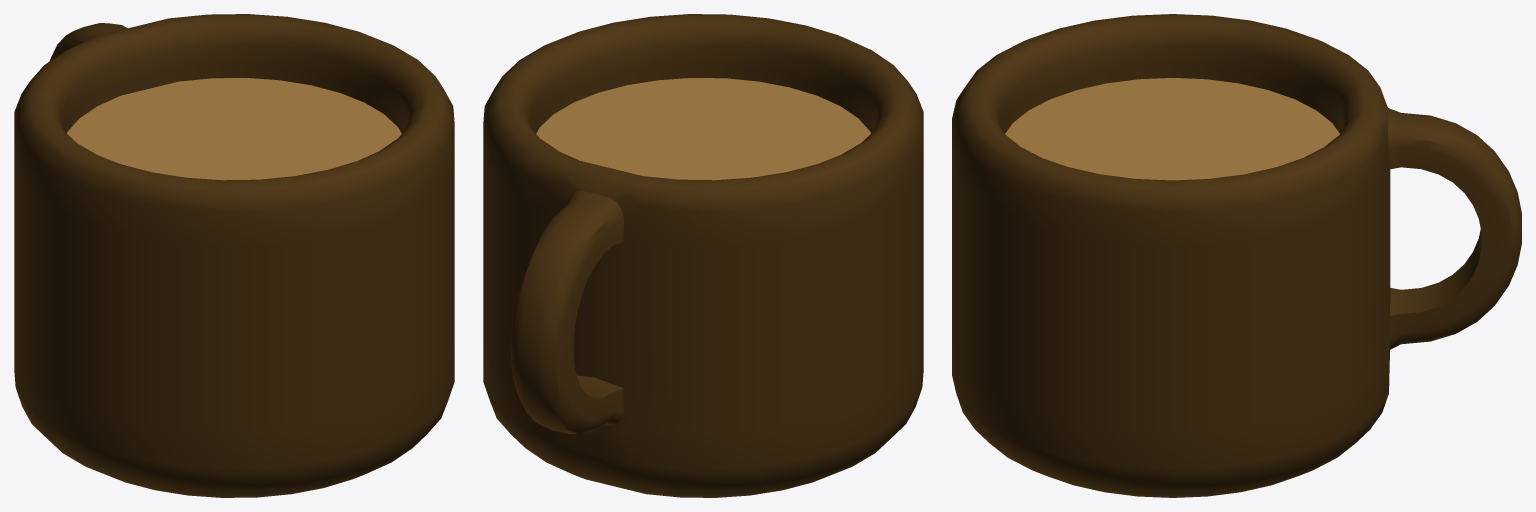
Rendered from BoardPieces_003.fbx.
3 renders of one model, left to right at view 1: azimuth 30°, elevation 25°; view 2: azimuth 150°, elevation 25°; view 3: azimuth 270°, elevation 25°, orthographic.
Visible parts, largest first — view 1: BoardPieces_003; view 2: BoardPieces_003; view 3: BoardPieces_003.
Boxes of the visible parts, x1,y1,x2,y2 form: BoardPieces_003: (14,14,454,497); BoardPieces_003: (483,14,923,497); BoardPieces_003: (952,14,1521,497).
Size of the model in its own units: 7.85 by 6.43 by 10.15.
